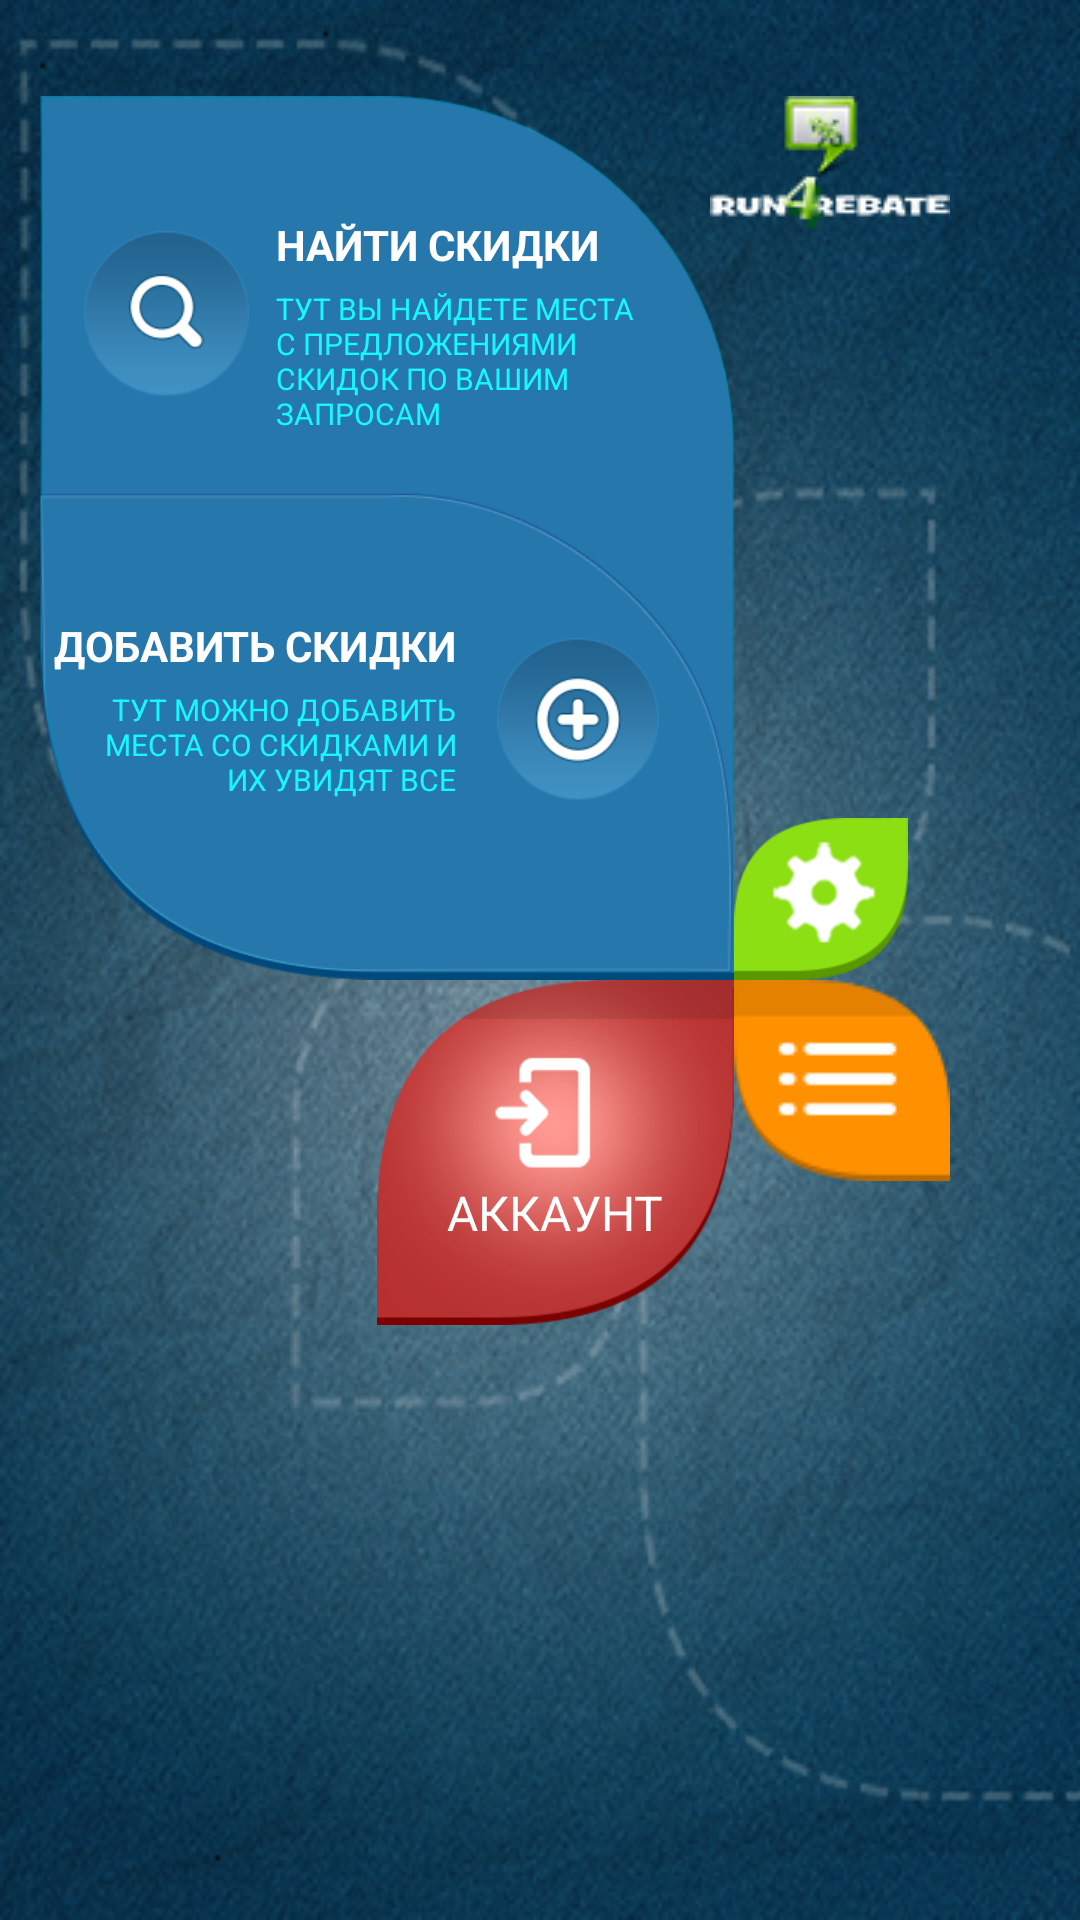

Screen size 1080 × 1920. Icon name, then its center in pixels as (x,y):
add: (578,719)
menu: (842,1080)
search: (166,313)
settings: (821,899)
